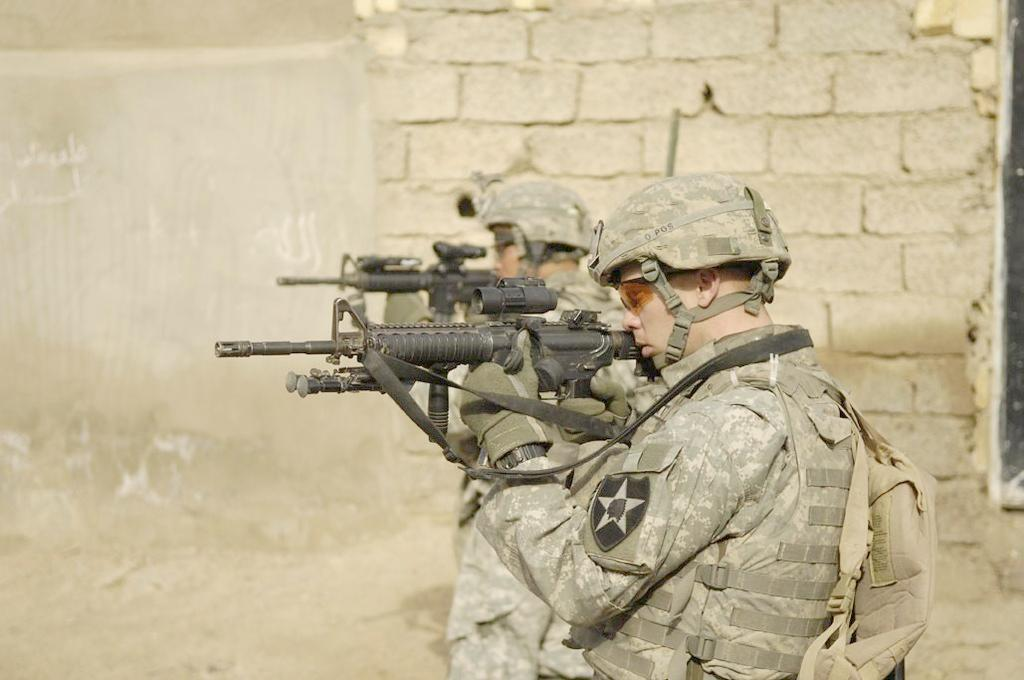gun: (217, 276, 646, 440), (277, 244, 502, 309)
